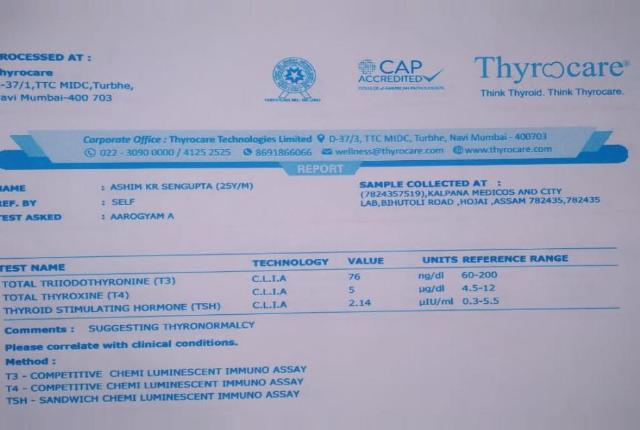Clinical_Conditions: (2, 368, 314, 406)
Name: (109, 180, 256, 192)
Ref_By: (112, 196, 137, 208)
Reference_Range: (461, 267, 503, 311)
Technology: (249, 271, 295, 313)
Test_Asked: (109, 210, 179, 229)
Test_Name: (1, 276, 224, 318)
Unit: (414, 267, 456, 309)
Value: (345, 270, 379, 311)
